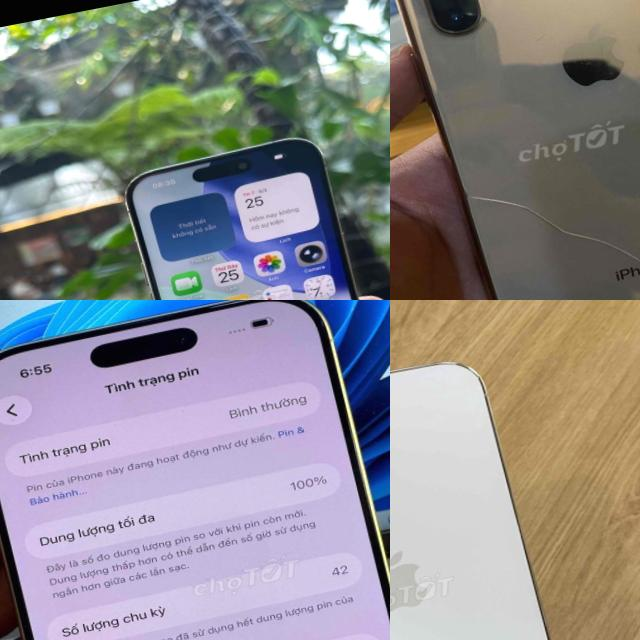gen_14: (390, 342, 593, 640)
gen_15: (95, 116, 390, 300)
gen_17: (0, 300, 390, 640)
gen_x_xs: (390, 0, 640, 300)
